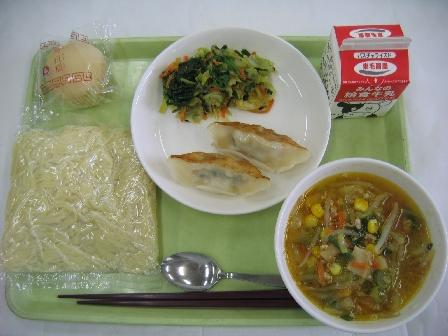Milk: (317, 27, 410, 124)
Soups: (265, 161, 442, 322)
pasta: (2, 119, 167, 285)
pastry: (23, 27, 127, 113)
salad with sauce: (145, 38, 283, 122)
tushpara-fried: (160, 113, 308, 202)
